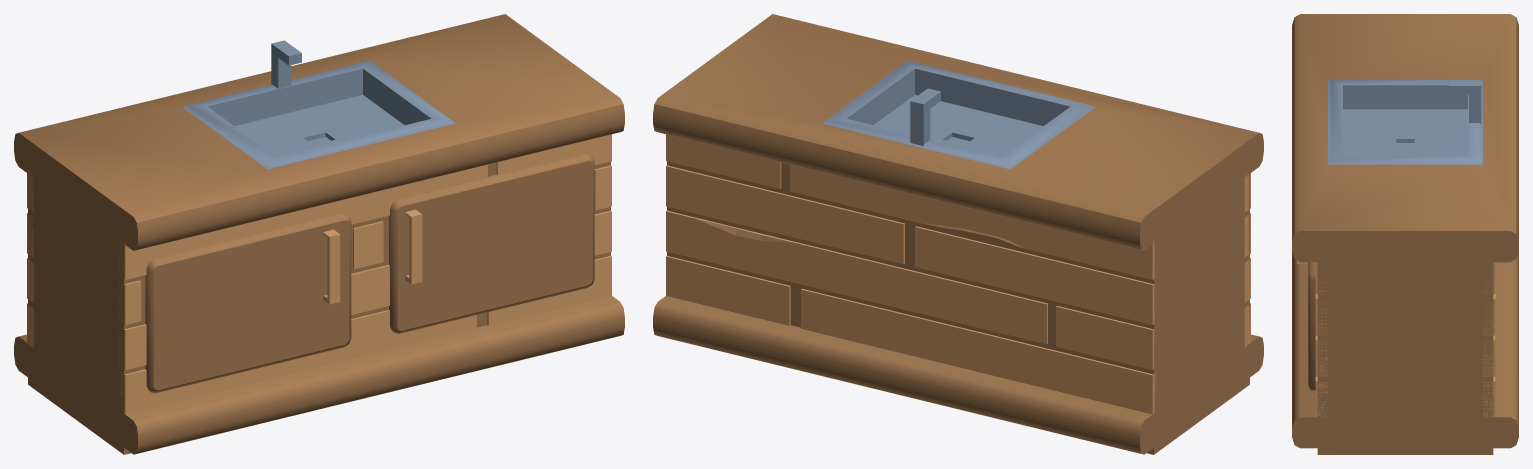
File: sushi-Environment_Counter_Sink.glb
3 views of the same model, side by side, from view 1: azimuth 30°, elevation 25°; view 2: azimuth 150°, elevation 25°; view 3: azimuth 270°, elevation 25° (orthographic). The views are drawn at different scales.
Parts seen in each view (by area): view 1: Environment_Counter_Sink; view 2: Environment_Counter_Sink; view 3: Environment_Counter_Sink.
Part boxes in pixels (bbox=[...]): Environment_Counter_Sink: bbox=[14, 14, 624, 454]; Environment_Counter_Sink: bbox=[653, 14, 1263, 454]; Environment_Counter_Sink: bbox=[1292, 14, 1518, 454].
Size of the model in its own units: 4 by 2.26 by 1.77.
1 material, 1 textured.
